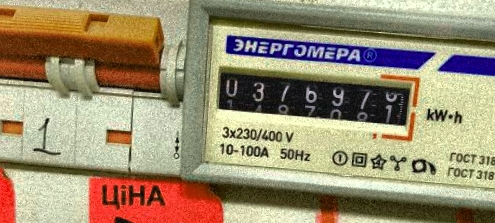0: (222, 74, 239, 97)
1: (382, 101, 392, 124)
3: (250, 79, 264, 101)
6: (302, 79, 319, 103)
7: (276, 78, 292, 102), (356, 84, 371, 108)
9: (329, 83, 344, 106)
screen: (204, 56, 423, 144)
